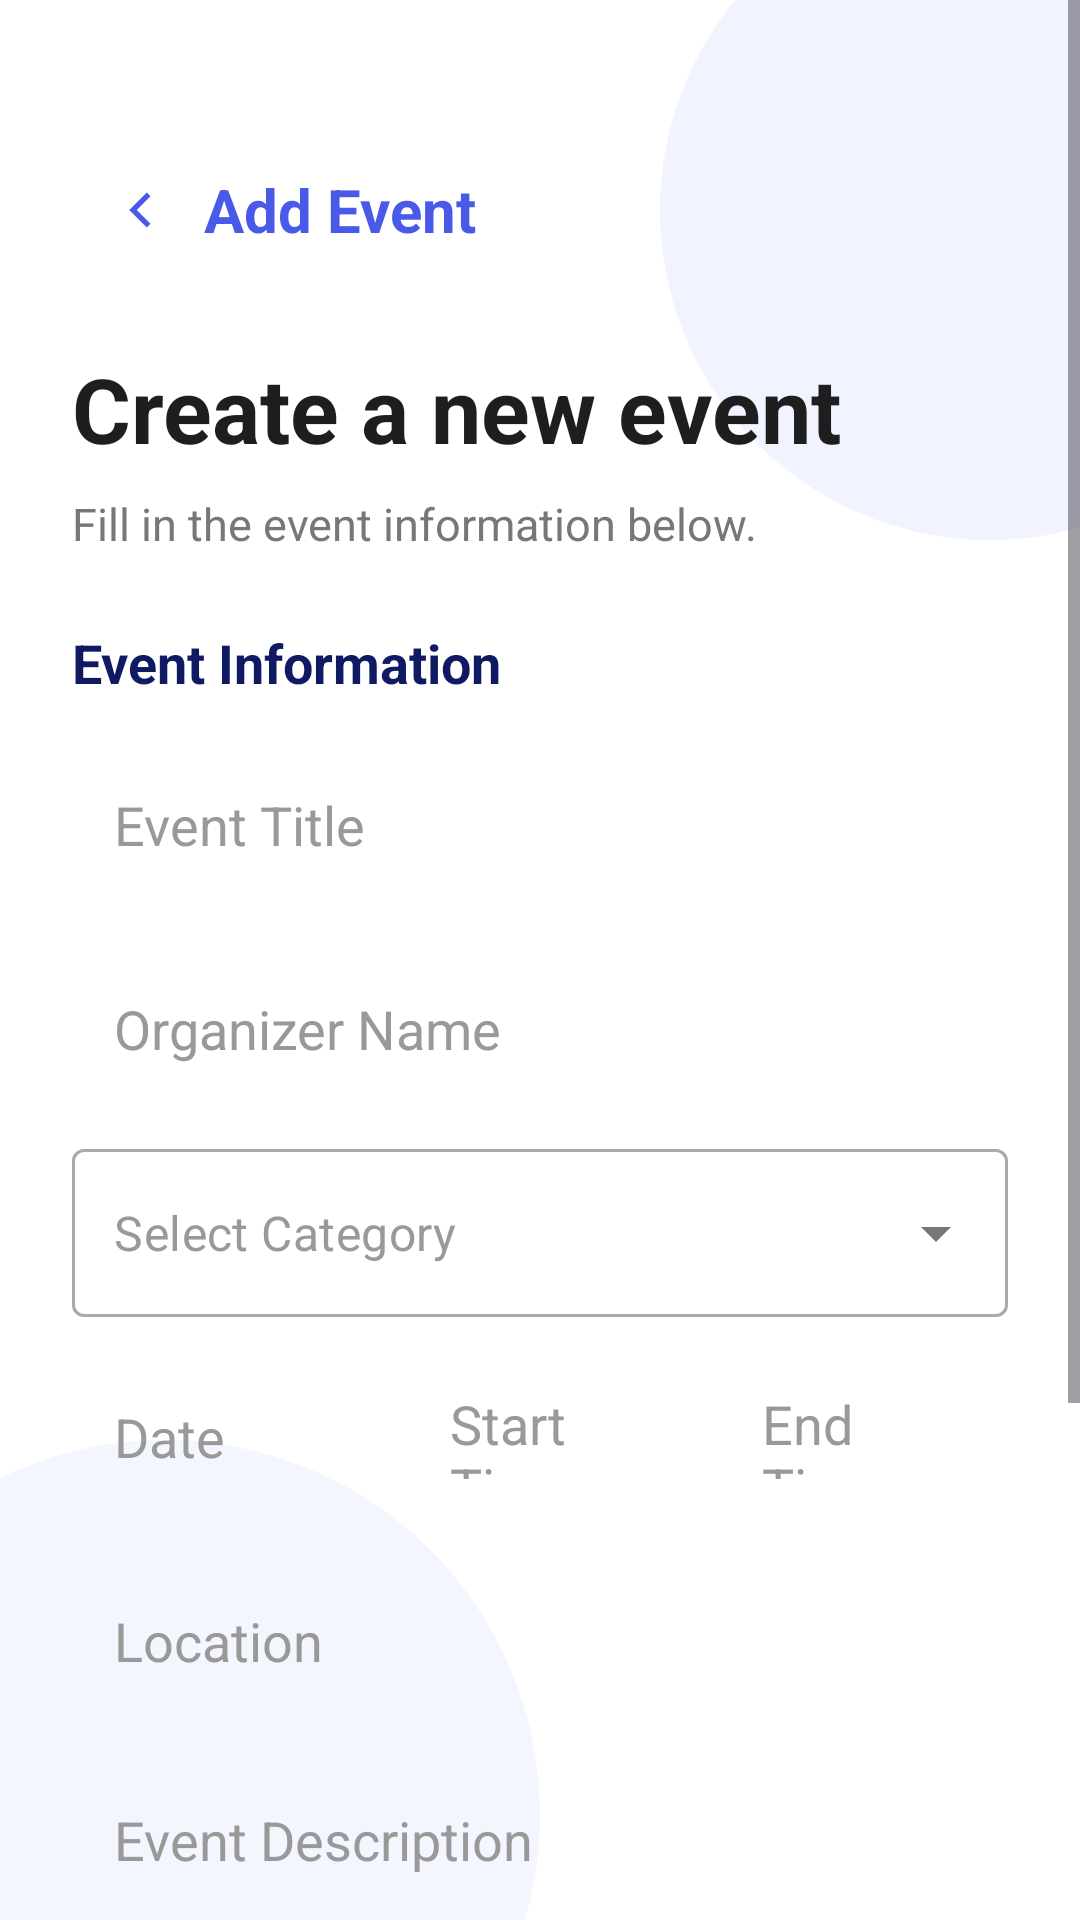

Where to tap for icons on this 1080×1920 app screen, as [x,y]:
Back: [140,210]
